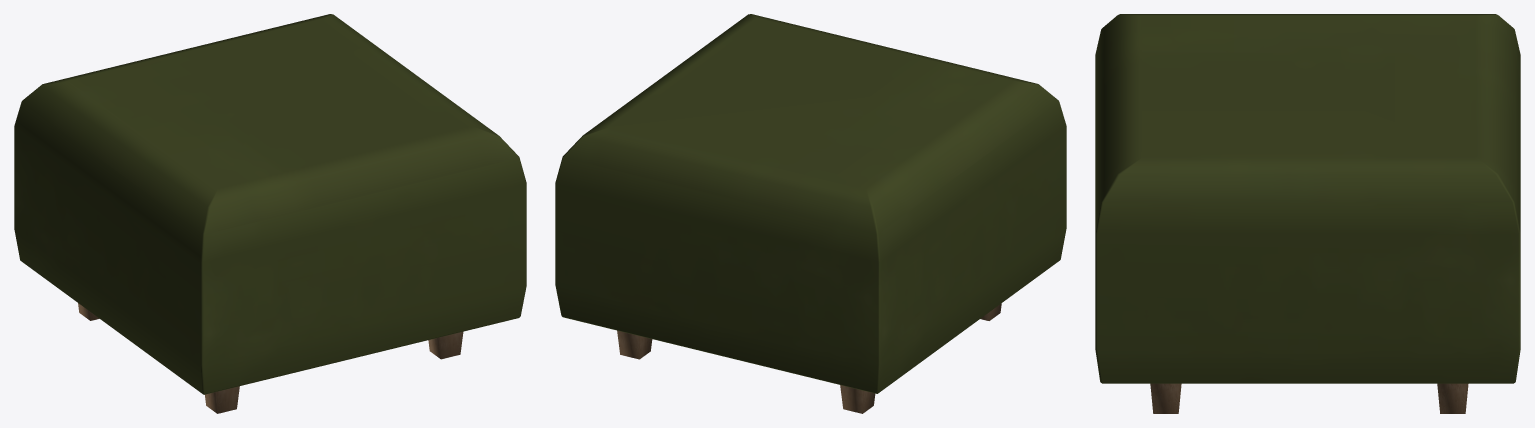
File: pouf_1.fbx
3 renders of one model, left to right at view 1: azimuth 30°, elevation 25°; view 2: azimuth 150°, elevation 25°; view 3: azimuth 270°, elevation 25°, orthographic. The views are drawn at different scales.
Parts seen in each view (by area): view 1: polySurface1086; view 2: polySurface1086; view 3: polySurface1086.
Part boxes in pixels (x1,y1,x2,y2): polySurface1086: (14,14,526,413); polySurface1086: (555,14,1066,413); polySurface1086: (1095,14,1520,413).
Bounding box in the file's own units: 66 × 44.55 × 66.
Materials: 1 (1 with a texture image).
